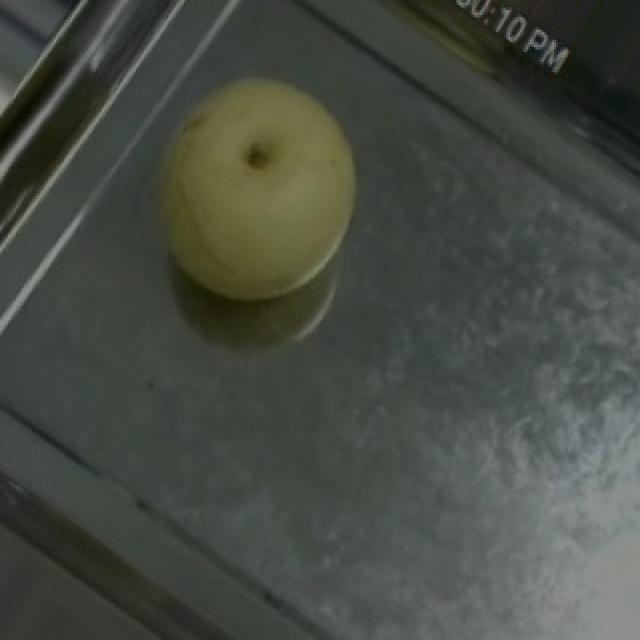Fruit: (104, 35, 400, 345)
